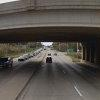Bridge: (3, 6, 94, 48)
